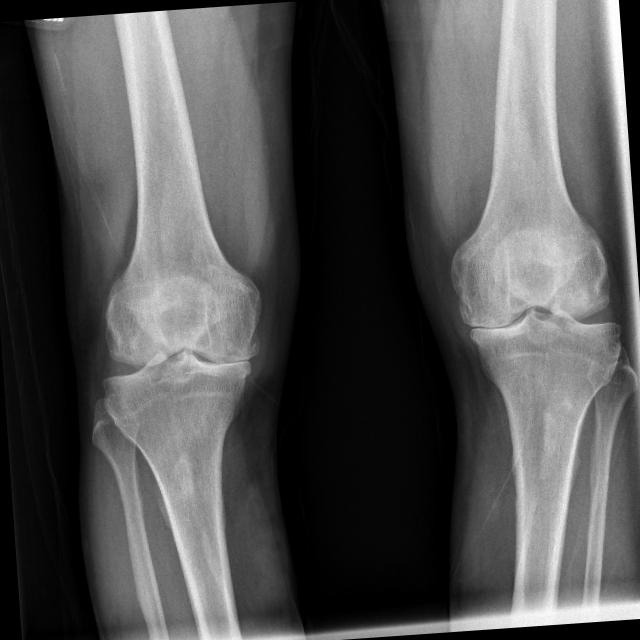Knee: (445, 235, 625, 392), (92, 276, 269, 432)
